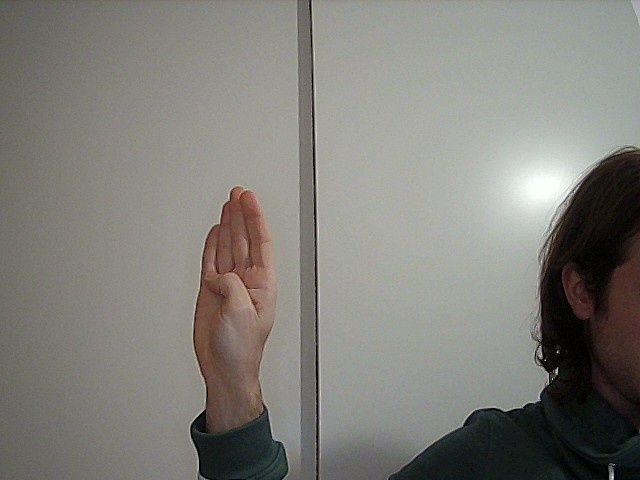b: (167, 176, 297, 381)
